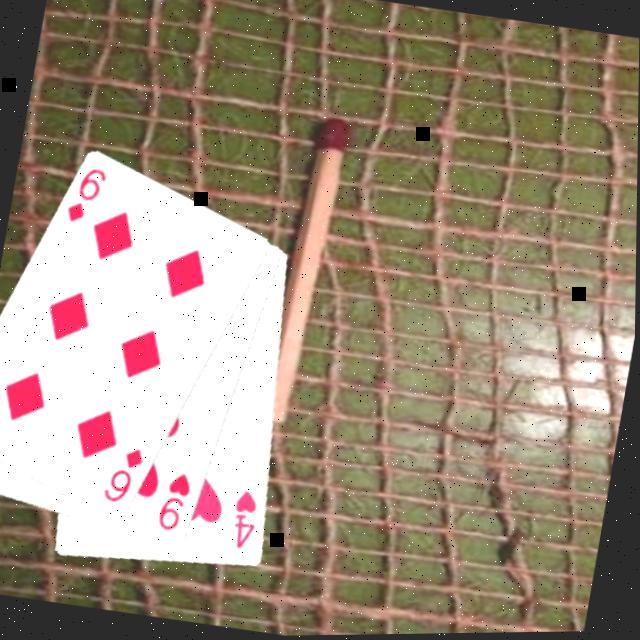4H: (228, 486, 268, 553)
6D: (102, 440, 152, 509), (64, 160, 114, 228)
9H: (157, 466, 200, 536)
